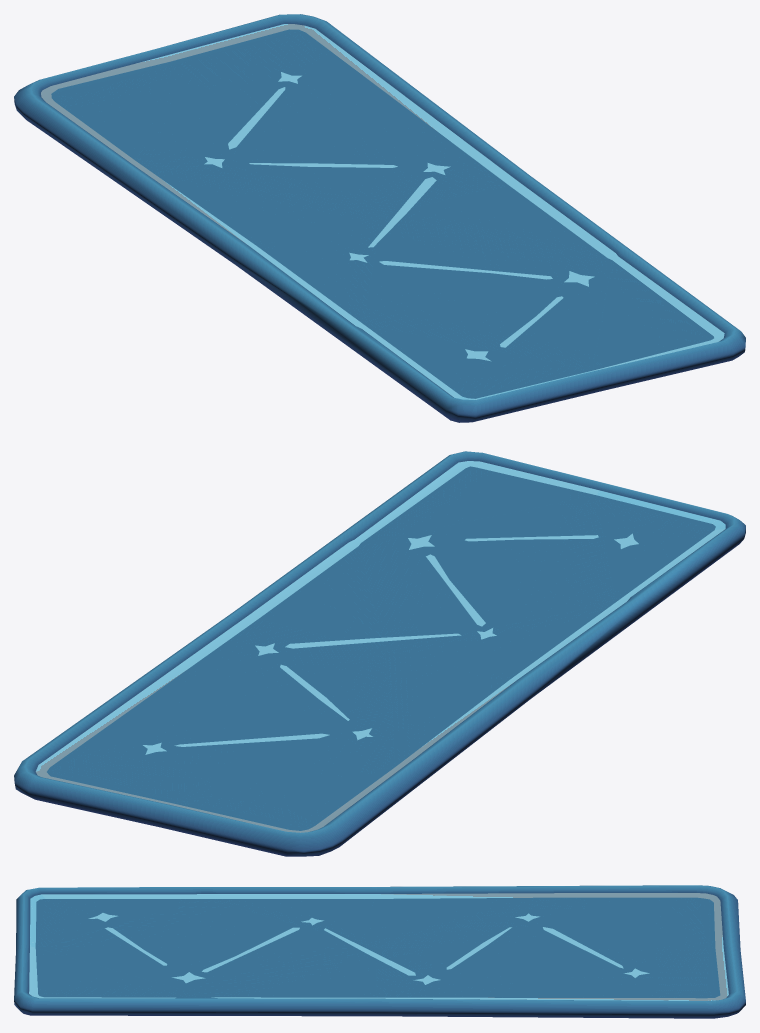
The model's file is Prop_AnniversaryCarpet.glb.
The picture shows the model from 3 angles, top to bottom: view 1: azimuth 30°, elevation 25°; view 2: azimuth 150°, elevation 25°; view 3: azimuth 270°, elevation 25°; orthographic projection. The views are drawn at different scales.
Parts seen in each view (by area): view 1: Prop_AnniversaryCarpet; view 2: Prop_AnniversaryCarpet; view 3: Prop_AnniversaryCarpet.
Part boxes in pixels (x1=…): Prop_AnniversaryCarpet: x1=14, y1=14, x2=745, y2=422; Prop_AnniversaryCarpet: x1=14, y1=451, x2=745, y2=856; Prop_AnniversaryCarpet: x1=14, y1=885, x2=745, y2=1018.
Bounding box in the file's own units: 19.95 × 1.3 × 49.81.
1 material, 1 textured.
